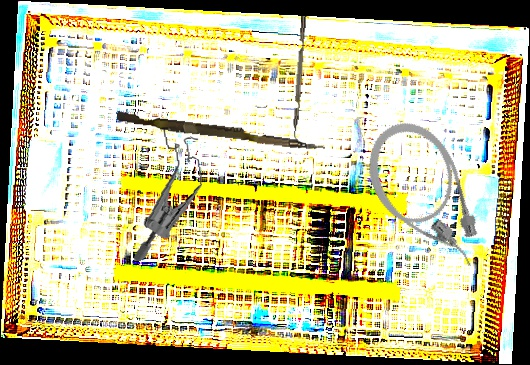Cannula: (352, 108, 497, 289)
Chopper: (290, 15, 313, 144)
Pusher: (115, 111, 327, 152)
Speculum: (116, 118, 214, 262)
